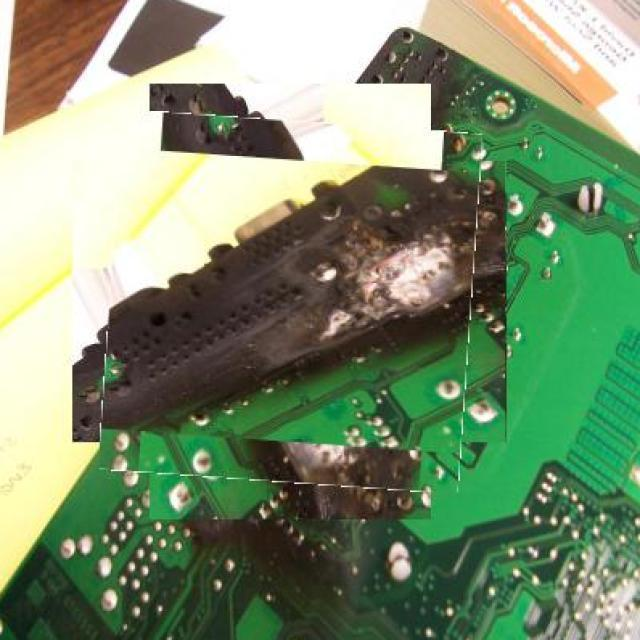Burn: (103, 116, 476, 489)
